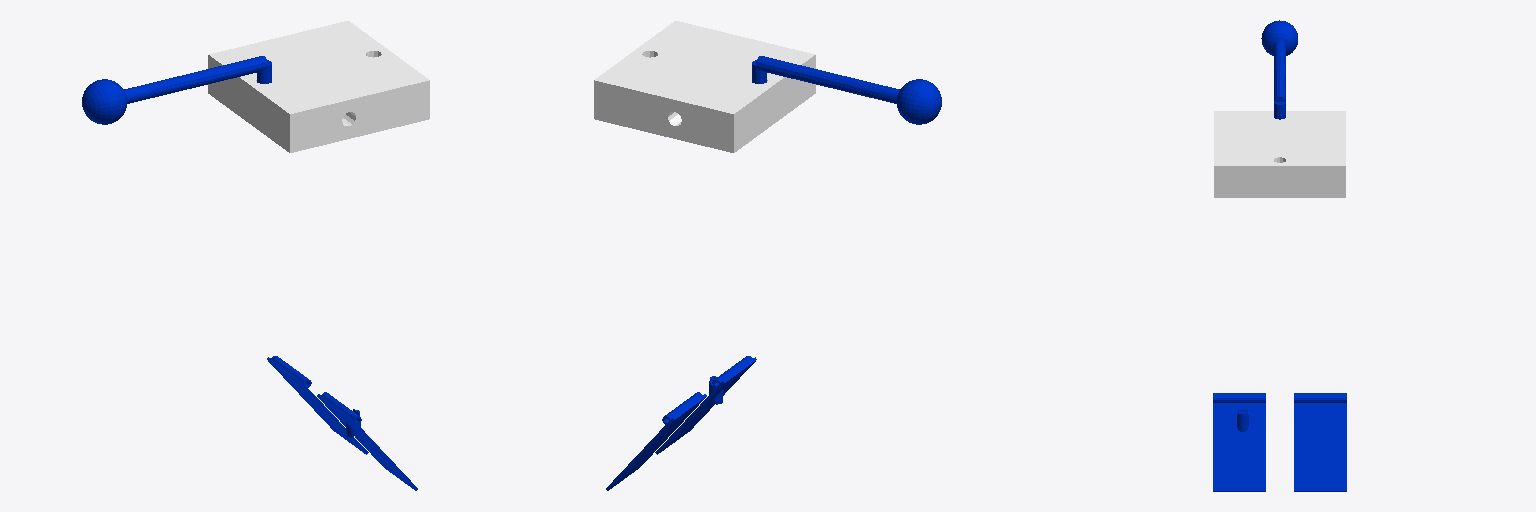
The robot description file, URDF, robot "BodyWithTail":
<?xml version="1.0" encoding="utf-8"?>
<!-- This URDF was automatically created by SolidWorks to URDF Exporter! Originally created by [author] ([email redacted]) 
     Commit Version: 1.5.0-0-g9aa0fdb  Build Version: 1.5.7004.21443
     For more information, please see http://wiki.ros.org/sw_urdf_exporter -->
<robot
  name="BodyWithTail">
  <link
    convex="yes"
    name="base_link">
    <inertial>
      <origin
        xyz="0.00122383806382909 -3.17942980033395E-17 0.0659595203814596"
        rpy="0 0 0" />
      <mass
        value="24.9329927506" />
      <inertia
        ixx="5.55262025860006"
        ixy="8.98835590924511E-16"
        ixz="-0.000394714970341267"
        iyy="5.44179501990665"
        iyz="-2.98538962318851E-16"
        izz="10.2631638380994" />
    </inertial>
    <visual>
      <origin
        xyz="0 0 0"
        rpy="0 0 0" />
      <geometry>
        <mesh
          filename="BodyWithTail/meshes/base_link.STL" />
      </geometry>
      <material
        name="">
        <color
          rgba="1 1 1 1" />
      </material>
    </visual>
    <collision>
      <origin
        xyz="0 0 0"
        rpy="0 0 0" />
      <geometry>
        <mesh
          filename="BodyWithTail/meshes/base_link.STL" />
      </geometry>
    </collision>
  </link>
  <link
    convex="yes"
    name="Femur_L">
    <inertial>
      <origin
        xyz="0.242203107830059 -0.00284577498225344 0.0924919582228952"
        rpy="0 0 0" />
      <mass
        value="1.0956267569314" />
      <inertia
        ixx="0.000770809917908148"
        ixy="0.000413272308722677"
        ixz="-0.00199415247363703"
        iyy="0.0359395923546767"
        iyz="2.34305677777084E-05"
        izz="0.0354701341892382" />
    </inertial>
    <visual>
      <origin
        xyz="0 0 0"
        rpy="0 0 0" />
      <geometry>
        <mesh
          filename="BodyWithTail/meshes/Femur_L.STL" />
      </geometry>
      <material
        name="">
        <color
          rgba="0.00784313725490196 0.23921568627451 0.823529411764706 1" />
      </material>
    </visual>
    <collision>
      <origin
        xyz="0 0 0"
        rpy="0 0 0" />
      <geometry>
        <mesh
          filename="BodyWithTail/meshes/Femur_L.STL" />
      </geometry>
    </collision>
  </link>
  <joint
    name="Hip_femur_L"
    type="continuous">
    <origin
      xyz="-0.0385868696304645 0.18 0.0672852031451373"
      rpy="-1.5707963267949 1.50458688118117 0" />
    <parent
      link="base_link" />
    <child
      link="Femur_L" />
    <axis
      xyz="0 0 1" />
    <safety_controller
      k_velocity="0" />
  </joint>
  <link
    convex="yes"
    name="Tibia_L">
    <inertial>
      <origin
        xyz="0.261668636750511 -0.00305413840682148 -0.023999999127617"
        rpy="0 0 0" />
      <mass
        value="0.837833351696081" />
      <inertia
        ixx="0.000224729291285804"
        ixy="0.000203159080373753"
        ixz="8.62500209497016E-10"
        iyy="0.0175133040900648"
        iyz="1.47446822069347E-11"
        izz="0.0175171715862385" />
    </inertial>
    <visual>
      <origin
        xyz="0 0 0"
        rpy="0 0 0" />
      <geometry>
        <mesh
          filename="BodyWithTail/meshes/Tibia_L.STL" />
      </geometry>
      <material
        name="">
        <color
          rgba="0.00784313725490196 0.23921568627451 0.823529411764706 1" />
      </material>
    </visual>
    <collision>
      <origin
        xyz="0 0 0"
        rpy="0 0 0" />
      <geometry>
        <mesh
          filename="BodyWithTail/meshes/Tibia_L.STL" />
      </geometry>
    </collision>
  </link>
  <joint
    name="Femur_tibia_L"
    type="continuous">
    <origin
      xyz="0.557961346760059 -0.00655865516646524 0.0770000001743604"
      rpy="0 0 -0.00193315362723463" />
    <parent
      link="Femur_L" />
    <child
      link="Tibia_L" />
    <axis
      xyz="0 0 -1" />
    <safety_controller
      k_velocity="0" />
  </joint>
  <link
    convex="yes"
    name="Tarsa_L">
    <inertial>
      <origin
        xyz="0.0302857093798252 -0.00810522006820646 0.070000040207787"
        rpy="0 0 0" />
      <mass
        value="0.1015318884241" />
      <inertia
        ixx="2.83277886698444E-05"
        ixy="2.1601549548652E-07"
        ixz="6.83242656182688E-12"
        iyy="4.67036221075615E-05"
        iyz="6.0767724694821E-12"
        izz="4.96436344707768E-05" />
    </inertial>
    <visual>
      <origin
        xyz="0 0 0"
        rpy="0 0 0" />
      <geometry>
        <mesh
          filename="BodyWithTail/meshes/Tarsa_L.STL" />
      </geometry>
      <material
        name="">
        <color
          rgba="0.00784313725490196 0.23921568627451 0.823529411764706 1" />
      </material>
    </visual>
    <collision>
      <origin
        xyz="0 0 0"
        rpy="0 0 0" />
      <geometry>
        <mesh
          filename="BodyWithTail/meshes/Tarsa_L.STL" />
      </geometry>
    </collision>
  </link>
  <joint
    name="Tibia_tarsa_L"
    type="continuous">
    <origin
      xyz="0.507031720085334 -0.00595264631811062 -0.0469999948873179"
      rpy="0 0 2.35013161415813" />
    <parent
      link="Tibia_L" />
    <child
      link="Tarsa_L" />
    <axis
      xyz="0 0 -1" />
    <safety_controller
      k_velocity="0" />
  </joint>
  <link
    convex="yes"
    name="Foot_L">
    <inertial>
      <origin
        xyz="-0.134046955227231 -0.0400232687764869 -0.149551845220791"
        rpy="0 0 0" />
      <mass
        value="10.834771497095713" />
      <inertia
        ixx="0.00329402342120859"
        ixy="-0.00225499866549155"
        ixz="4.00642092161077E-10"
        iyy="0.0132217193918293"
        iyz="2.89352007714829E-10"
        izz="0.0109505994990665" />
    </inertial>
    <visual>
      <origin
        xyz="0 0 0"
        rpy="0 0 0" />
      <geometry>
        <mesh
          filename="BodyWithTail/meshes/Foot_L.STL" />
      </geometry>
      <material
        name="">
        <color
          rgba="0.00784313725490196 0.23921568627451 0.823529411764706 1" />
      </material>
    </visual>
    <collision>
      <origin
        xyz="0 0 0"
        rpy="0 0 0" />
      <geometry>
        <mesh
          filename="BodyWithTail/meshes/Foot_L.STL" />
      </geometry>
    </collision>
  </link>
  <joint
    name="Tarsa_foot_L"
    type="continuous">
    <origin
      xyz="0.0545835119848165 -0.00841169146295107 0.0929999850227678"
      rpy="0 0 -0.0126879406929578" />
    <parent
      link="Tarsa_L" />
    <child
      link="Foot_L" />
    <axis
      xyz="0 0 0.999999999999996" />
    <safety_controller
      k_velocity="0" />
  </joint>
  <link
    convex="yes"
    name="Femur_R">
    <inertial>
      <origin
        xyz="0.242203107594868 -0.00284577821776226 -0.0924919582317857"
        rpy="0 0 0" />
      <mass
        value="1.09562675424786" />
      <inertia
        ixx="0.000770809907869585"
        ixy="0.000413271827180529"
        ixz="0.00199415248143469"
        iyy="0.0359395923291157"
        iyz="-2.34302735430893E-05"
        izz="0.0354701341468065" />
    </inertial>
    <visual>
      <origin
        xyz="0 0 0"
        rpy="0 0 0" />
      <geometry>
        <mesh
          filename="BodyWithTail/meshes/Femur_R.STL" />
      </geometry>
      <material
        name="">
        <color
          rgba="0.00784313725490196 0.23921568627451 0.823529411764706 1" />
      </material>
    </visual>
    <collision>
      <origin
        xyz="0 0 0"
        rpy="0 0 0" />
      <geometry>
        <mesh
          filename="BodyWithTail/meshes/Femur_R.STL" />
      </geometry>
    </collision>
  </link>
  <joint
    name="Hips_femur_R"
    type="continuous">
    <origin
      xyz="-0.0385868696304645 -0.18 0.0672852031451373"
      rpy="-1.5707963267949 1.50458688118117 0" />
    <parent
      link="base_link" />
    <child
      link="Femur_R" />
    <axis
      xyz="0 0 1" />
    <safety_controller
      k_velocity="0" />
  </joint>
  <link
    convex="yes"
    name="Tibia_R">
    <inertial>
      <origin
        xyz="0.261668641621138 -0.00305415187488046 0.0239999993678786"
        rpy="0 0 0" />
      <mass
        value="0.837833381982962" />
      <inertia
        ixx="0.000224729299568724"
        ixy="0.000203161324382621"
        ixz="-9.62315070088139E-10"
        iyy="0.0175133046826421"
        iyz="6.79629889809555E-11"
        izz="0.0175171721226335" />
    </inertial>
    <visual>
      <origin
        xyz="0 0 0"
        rpy="0 0 0" />
      <geometry>
        <mesh
          filename="BodyWithTail/meshes/Tibia_R.STL" />
      </geometry>
      <material
        name="">
        <color
          rgba="0.00784313725490196 0.23921568627451 0.823529411764706 1" />
      </material>
    </visual>
    <collision>
      <origin
        xyz="0 0 0"
        rpy="0 0 0" />
      <geometry>
        <mesh
          filename="BodyWithTail/meshes/Tibia_R.STL" />
      </geometry>
    </collision>
  </link>
  <joint
    name="Femur_tibia_R"
    type="continuous">
    <origin
      xyz="0.557961346760059 -0.00655865516646524 -0.0770000001743603"
      rpy="0 0 -0.00193315362723463" />
    <parent
      link="Femur_R" />
    <child
      link="Tibia_R" />
    <axis
      xyz="0 0 1" />
    <safety_controller
      k_velocity="0" />
  </joint>
  <link
    convex="yes"
    name="Tarsa_R">
    <inertial>
      <origin
        xyz="0.0302857093798253 -0.00810522006820635 -0.0700000402077869"
        rpy="0 0 0" />
      <mass
        value="0.1015318884241" />
      <inertia
        ixx="2.83277886698443E-05"
        ixy="2.16015495486542E-07"
        ixz="-6.8324266014177E-12"
        iyy="4.67036221075615E-05"
        iyz="-6.07677249578629E-12"
        izz="4.96436344707768E-05" />
    </inertial>
    <visual>
      <origin
        xyz="0 0 0"
        rpy="0 0 0" />
      <geometry>
        <mesh
          filename="BodyWithTail/meshes/Tarsa_R.STL" />
      </geometry>
      <material
        name="">
        <color
          rgba="0.00784313725490196 0.23921568627451 0.823529411764706 1" />
      </material>
    </visual>
    <collision>
      <origin
        xyz="0 0 0"
        rpy="0 0 0" />
      <geometry>
        <mesh
          filename="BodyWithTail/meshes/Tarsa_R.STL" />
      </geometry>
    </collision>
  </link>
  <joint
    name="Tibia_tarsa_R"
    type="continuous">
    <origin
      xyz="0.507031720085334 -0.00595264631811062 0.0469999948873179"
      rpy="0 0 2.35013161415813" />
    <parent
      link="Tibia_R" />
    <child
      link="Tarsa_R" />
    <axis
      xyz="0 0 1" />
    <safety_controller
      k_velocity="0" />
  </joint>
  <link
    convex="yes"
    name="Foot_R">
    <inertial>
      <origin
        xyz="-0.134046955227231 -0.0400232687764868 0.149551845220791"
        rpy="0 0 0" />
      <mass
        value="10.834771497095712" />
      <inertia
        ixx="0.00329402342120859"
        ixy="-0.00225499866549155"
        ixz="-4.00642091881399E-10"
        iyy="0.0132217193918293"
        iyz="-2.89352008316691E-10"
        izz="0.0109505994990664" />
    </inertial>
    <visual>
      <origin
        xyz="0 0 0"
        rpy="0 0 0" />
      <geometry>
        <mesh
          filename="BodyWithTail/meshes/Foot_R.STL" />
      </geometry>
      <material
        name="">
        <color
          rgba="0.00784313725490196 0.23921568627451 0.823529411764706 1" />
      </material>
    </visual>
    <collision>
      <origin
        xyz="0 0 0"
        rpy="0 0 0" />
      <geometry>
        <mesh
          filename="BodyWithTail/meshes/Foot_R.STL" />
      </geometry>
    </collision>
  </link>
  <joint
    name="Tarsa_foot_R"
    type="continuous">
    <origin
      xyz="0.0545835119848167 -0.00841169146295095 -0.0929999850227678"
      rpy="0 0 -0.0126879406929579" />
    <parent
      link="Tarsa_R" />
    <child
      link="Foot_R" />
    <axis
      xyz="0 0 -0.999999999999996" />
    <safety_controller
      k_velocity="0" />
  </joint>
  <link
    name="Tail">
    <inertial>
      <origin
        xyz="0.421457332725084 -9.67276904467562E-10 -0.0568211726179445"
        rpy="0 0 0" />
      <mass
        value="2.43669066002775" />
      <inertia
        ixx="0.00361500190357776"
        ixy="-7.00435857004311E-10"
        ixz="0.00346870361655754"
        iyy="0.102575187379763"
        iyz="1.22087694850174E-10"
        izz="0.102066233974879" />
    </inertial>
    <visual>
      <origin
        xyz="0 0 0"
        rpy="0 0 0" />
      <geometry>
        <mesh
          filename="BodyWithTail/meshes/Tail.STL" />
      </geometry>
      <material
        name="">
        <color
          rgba="0.00784313725490196 0.23921568627451 0.823529411764706 1" />
      </material>
    </visual>
    <collision>
      <origin
        xyz="0 0 0"
        rpy="0 0 0" />
      <geometry>
        <mesh
          filename="BodyWithTail/meshes/Tail.STL" />
      </geometry>
    </collision>
  </link>
  <joint
    name="Hips_Tail"
    type="continuous">
    <origin
      xyz="-0.193717960242815 0 0.132"
      rpy="3.14159265358979 0 3.14159265358979" />
    <parent
      link="base_link" />
    <child
      link="Tail" />
    <axis
      xyz="0 0 1" />
    <safety_controller
      k_velocity="0" />
  </joint>
</robot>

--- Facts derived from the render (not from the file) ---
The picture shows the robot from 3 angles, left to right: view 1: azimuth 30°, elevation 25°; view 2: azimuth 150°, elevation 25°; view 3: azimuth 270°, elevation 25°; orthographic projection.
Model BodyWithTail with 10 links and 9 joints (9 continuous), rooted at base_link, posed every joint at zero.
Visible links, largest first — view 1: base_link, Tail, Foot_L, Foot_R; view 2: base_link, Tail, Foot_L, Foot_R; view 3: base_link, Foot_L, Foot_R, Tail.
Boxes of the visible links, <box> form: base_link: <box>208,21,429,152</box>; Tail: <box>82,56,271,124</box>; Foot_L: <box>267,356,368,454</box>; Foot_R: <box>317,392,417,490</box>; base_link: <box>594,21,815,152</box>; Tail: <box>752,56,941,124</box>; Foot_L: <box>606,392,706,490</box>; Foot_R: <box>655,356,756,454</box>; base_link: <box>1214,111,1345,197</box>; Foot_L: <box>1294,393,1346,491</box>; Foot_R: <box>1213,393,1265,491</box>; Tail: <box>1261,20,1297,119</box>.
Bounding box of the posed robot: 1.08 × 0.5069 × 1.51 m (x, y, z).
Meshes: 10 distinct files referenced, 5 mesh visuals loaded (5 binary STL); not drawn: 5 (reference not matched to a file when rendering).